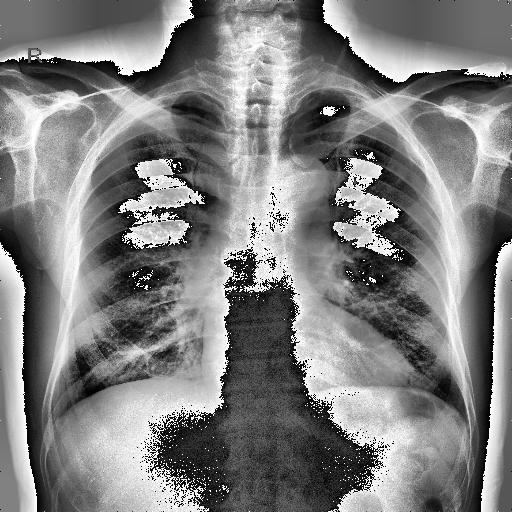0- Aortic enlargement: (263, 154, 332, 226), (274, 155, 334, 232), (268, 153, 326, 201)
3- Cardiomegaly: (196, 341, 414, 383), (200, 356, 414, 396)
